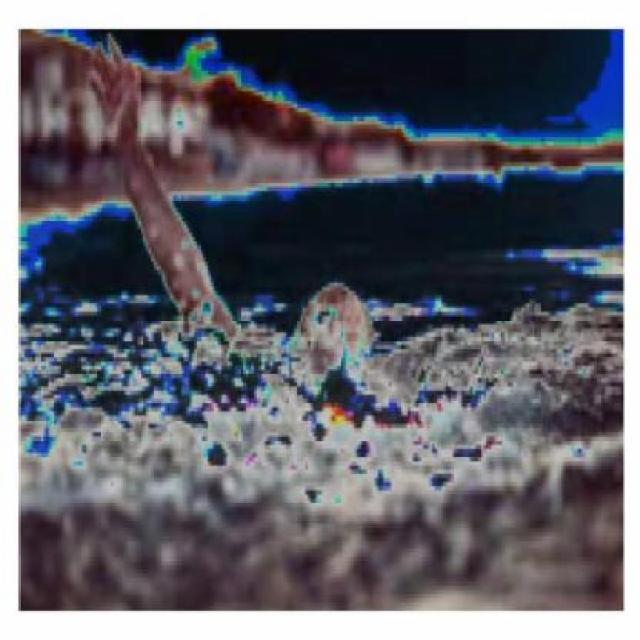drowning: (93, 44, 373, 356)
